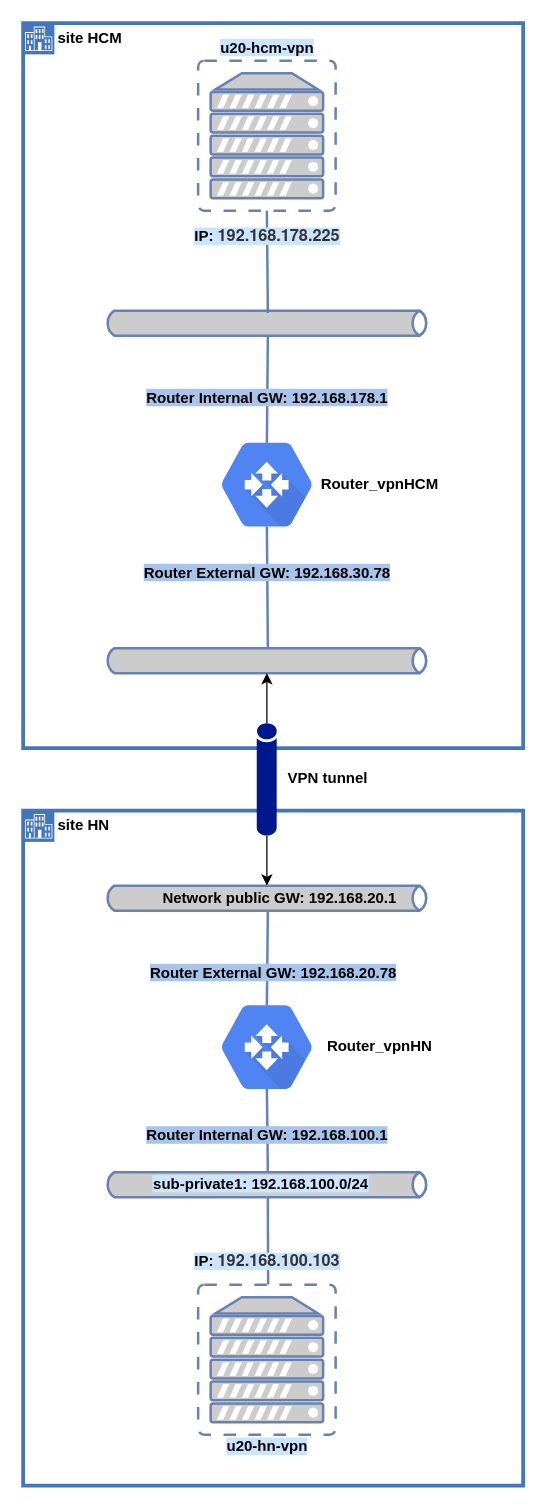
Image size: 546x1509. Some labels were removed from this diagram. The centre of each missing label's shape, as x and y in pixels:
Network public GW: 192.168.30.1: the point at 266,660
sub_private10: 192.168.178.0/24: the point at 266,322
